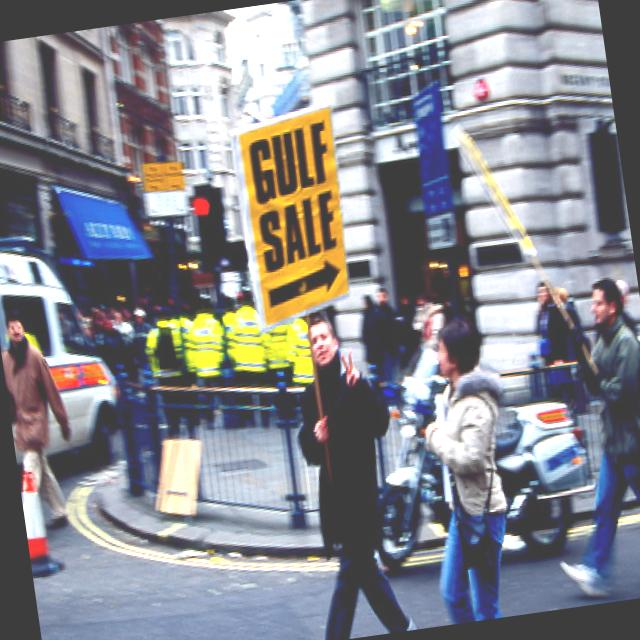Vehicle: (356, 321, 610, 581), (0, 223, 127, 477)
